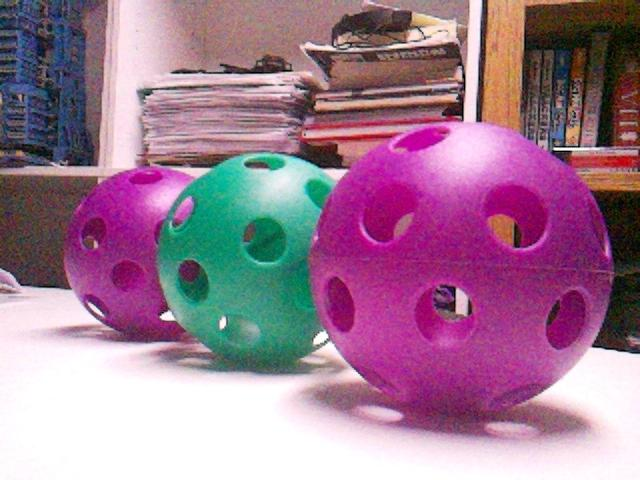Green: (155, 153, 337, 367)
Purple: (309, 124, 610, 412), (63, 170, 202, 338)
